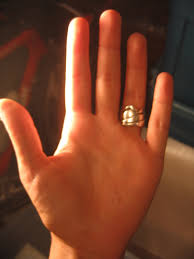palm: (50, 123, 144, 239)
